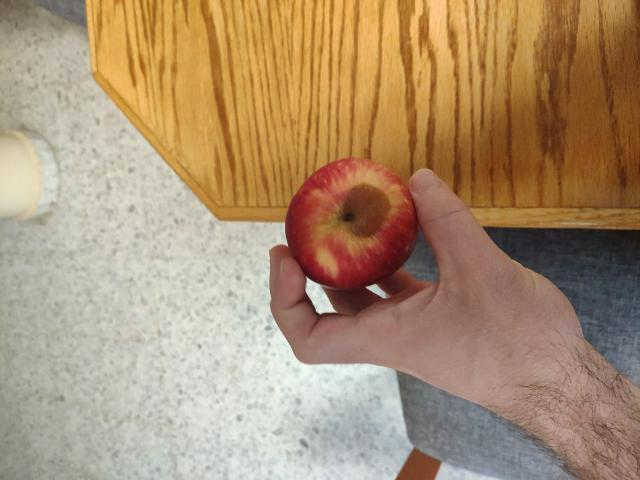apple: (282, 157, 423, 278)
